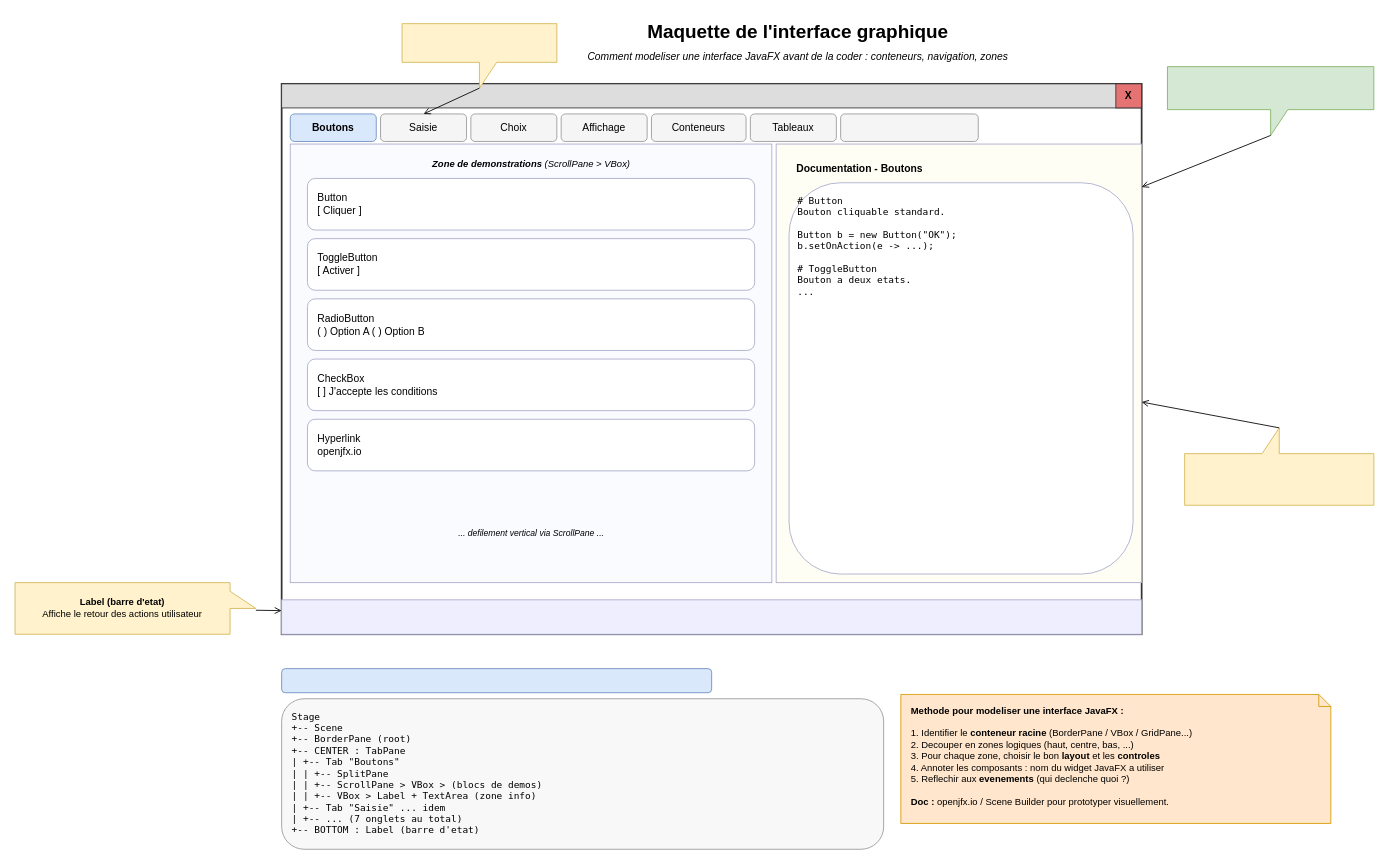
Image size: 1389x864. Some labels were removed from this diagram. Each missing label, with the box of its shape:
BorderPane (racine) CENTER = TabPane BOTTOM = barre d'etat: (1167, 66, 1374, 135)
Catalogue JavaFX - Demo MVC: (281, 83, 1142, 108)
Hierarchie des conteneurs (composition de Nodes): (281, 668, 712, 693)
Menus & Dialogues: (840, 113, 978, 141)
Onglet courant : Boutons: (281, 599, 1142, 634)
SplitPane Separation ajustable entre demos et documentation: (1184, 427, 1374, 505)
TabPane Un onglet par categorie: (401, 23, 557, 88)
